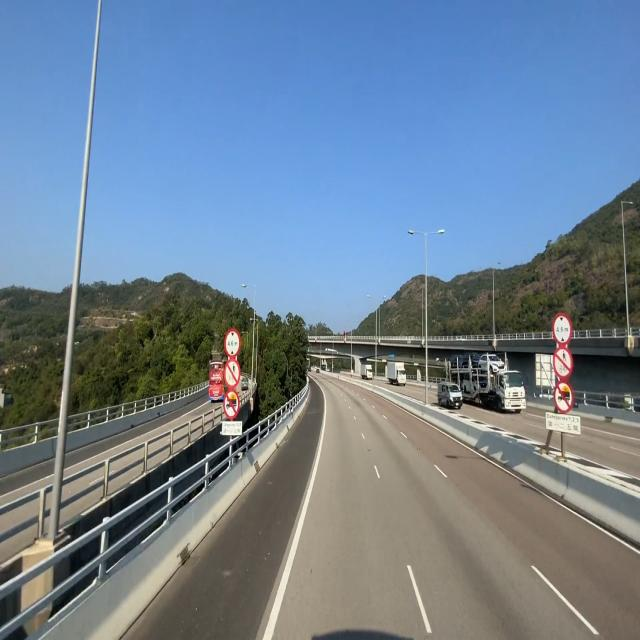Car: (437, 377, 464, 413)
